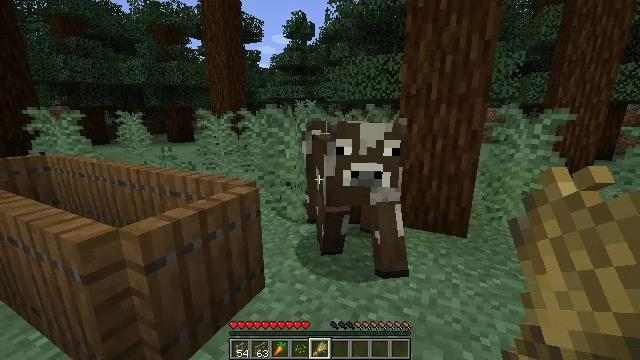cow: (317, 123, 409, 276)
